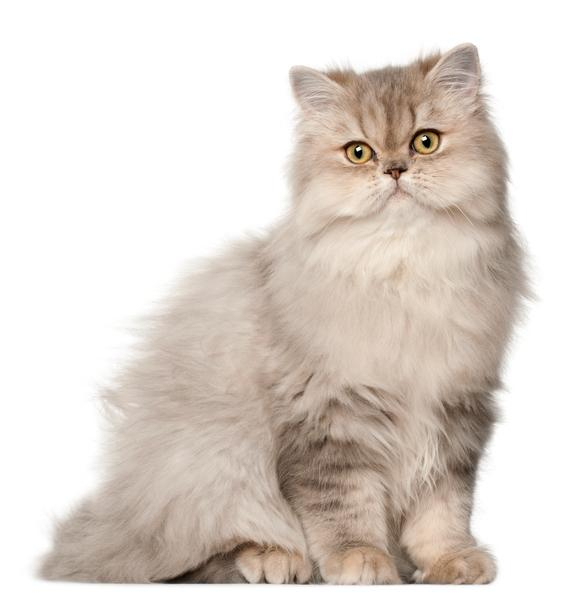cat: (174, 58, 543, 534)
